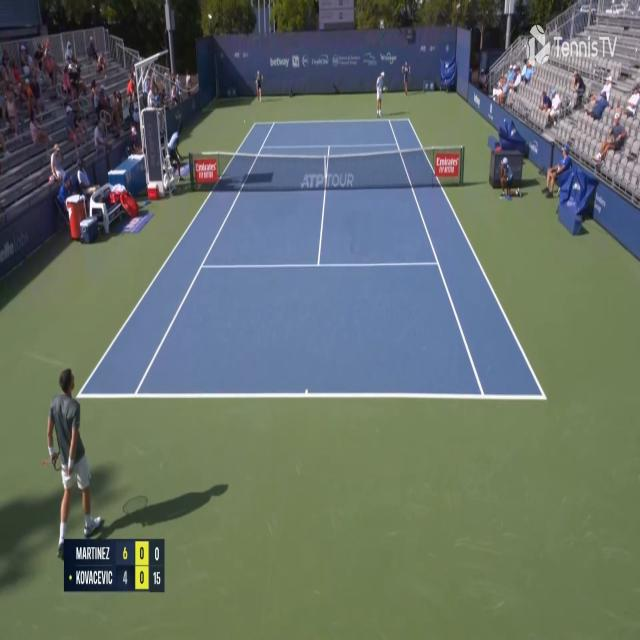tennis-player: (41, 358, 107, 549), (374, 68, 388, 118)
